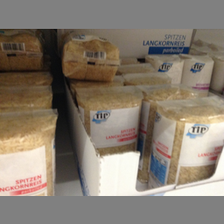rice: (146, 99, 224, 188), (75, 84, 142, 158), (1, 108, 57, 196), (61, 32, 120, 80), (1, 30, 47, 70)
